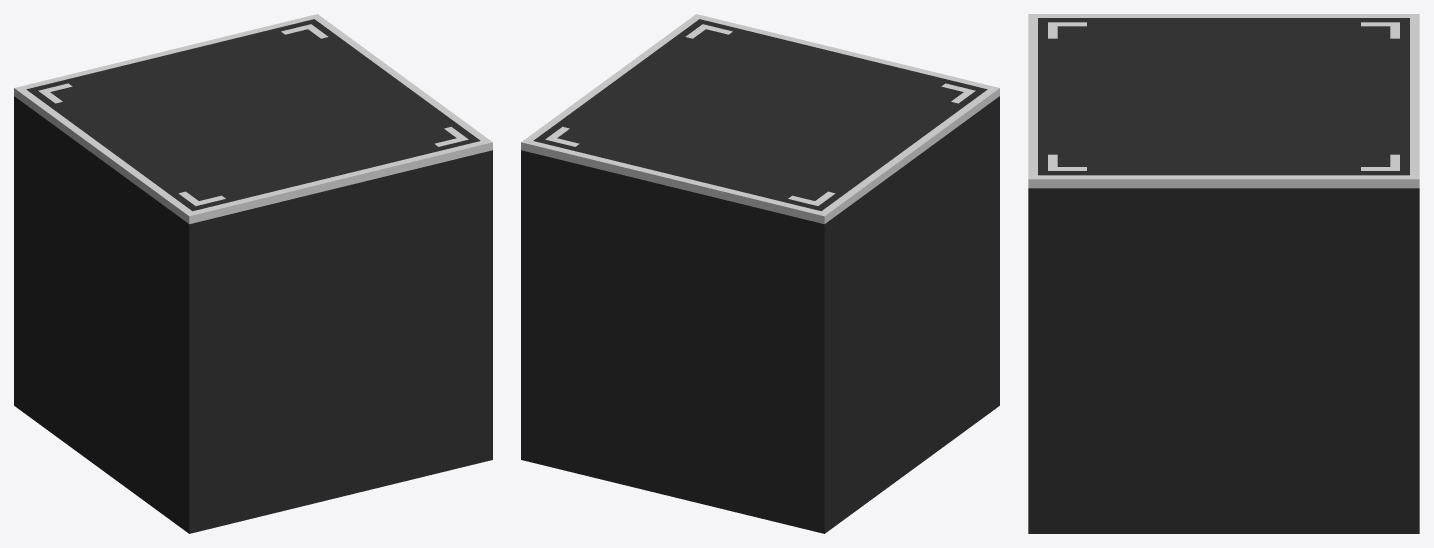
The model's file is Wall.obj.
3 renders of one model, left to right at view 1: azimuth 30°, elevation 25°; view 2: azimuth 150°, elevation 25°; view 3: azimuth 270°, elevation 25°, orthographic. The views are drawn at different scales.
Visible parts, largest first — view 1: Untitled.001; view 2: Untitled.001; view 3: Untitled.001.
Boxes of the visible parts, box(x1,y1,x2,y2) form: Untitled.001: box(14, 14, 492, 533); Untitled.001: box(521, 14, 999, 533); Untitled.001: box(1028, 14, 1419, 533).
Size of the model in its own units: 2 by 2 by 2.
1 material, 1 textured.
